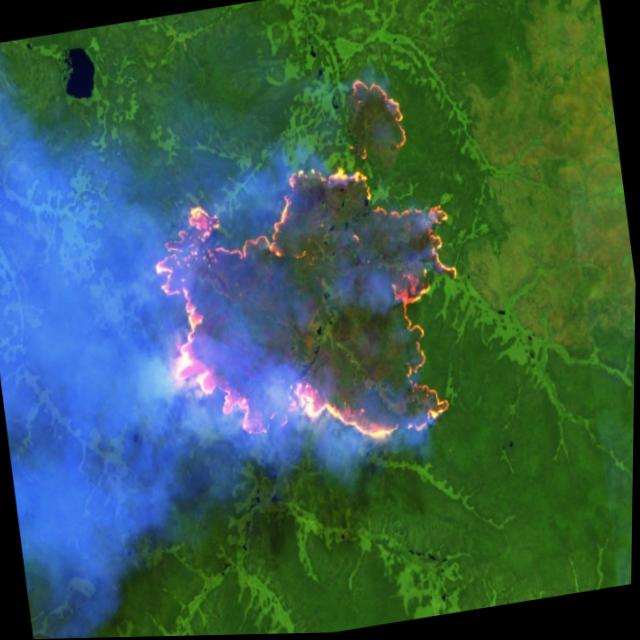fire: (131, 58, 484, 480)
